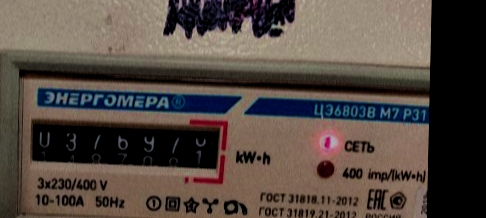0: (37, 126, 51, 148)
1: (193, 147, 205, 168)
3: (65, 130, 79, 152)
6: (116, 128, 131, 151)
7: (167, 132, 183, 155), (90, 128, 105, 152)
9: (142, 130, 156, 152)
screen: (22, 106, 232, 186)
